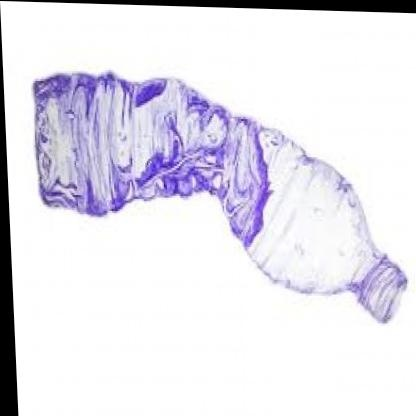trash: (34, 72, 406, 322)
